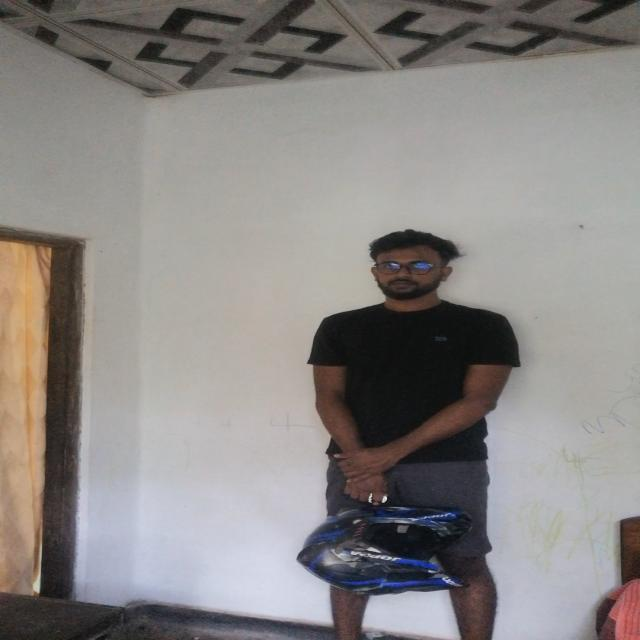Person: (305, 232, 523, 636)
